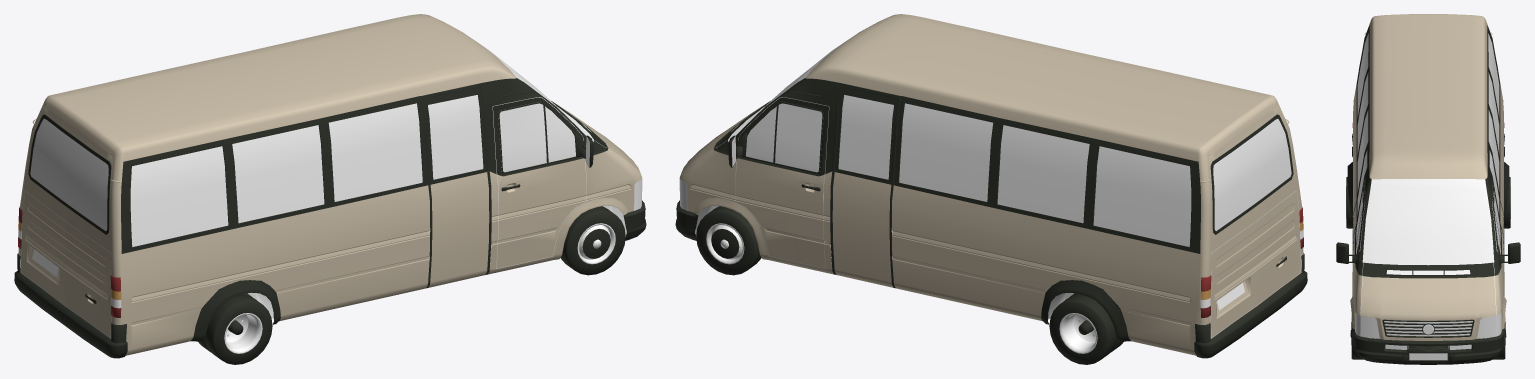
The model's file is m_bus_orange.gltf.
3 renders of one model, left to right at view 1: azimuth 30°, elevation 25°; view 2: azimuth 150°, elevation 25°; view 3: azimuth 270°, elevation 25°, orthographic. The views are drawn at different scales.
Parts seen in each view (by area): view 1: juse; view 2: juse; view 3: juse.
Boxes of the visible parts, bbox=[...] form: juse: bbox=[14, 14, 646, 364]; juse: bbox=[675, 14, 1307, 364]; juse: bbox=[1336, 14, 1520, 364].
Size of the model in its own units: 4.71 by 1.88 by 1.81.
